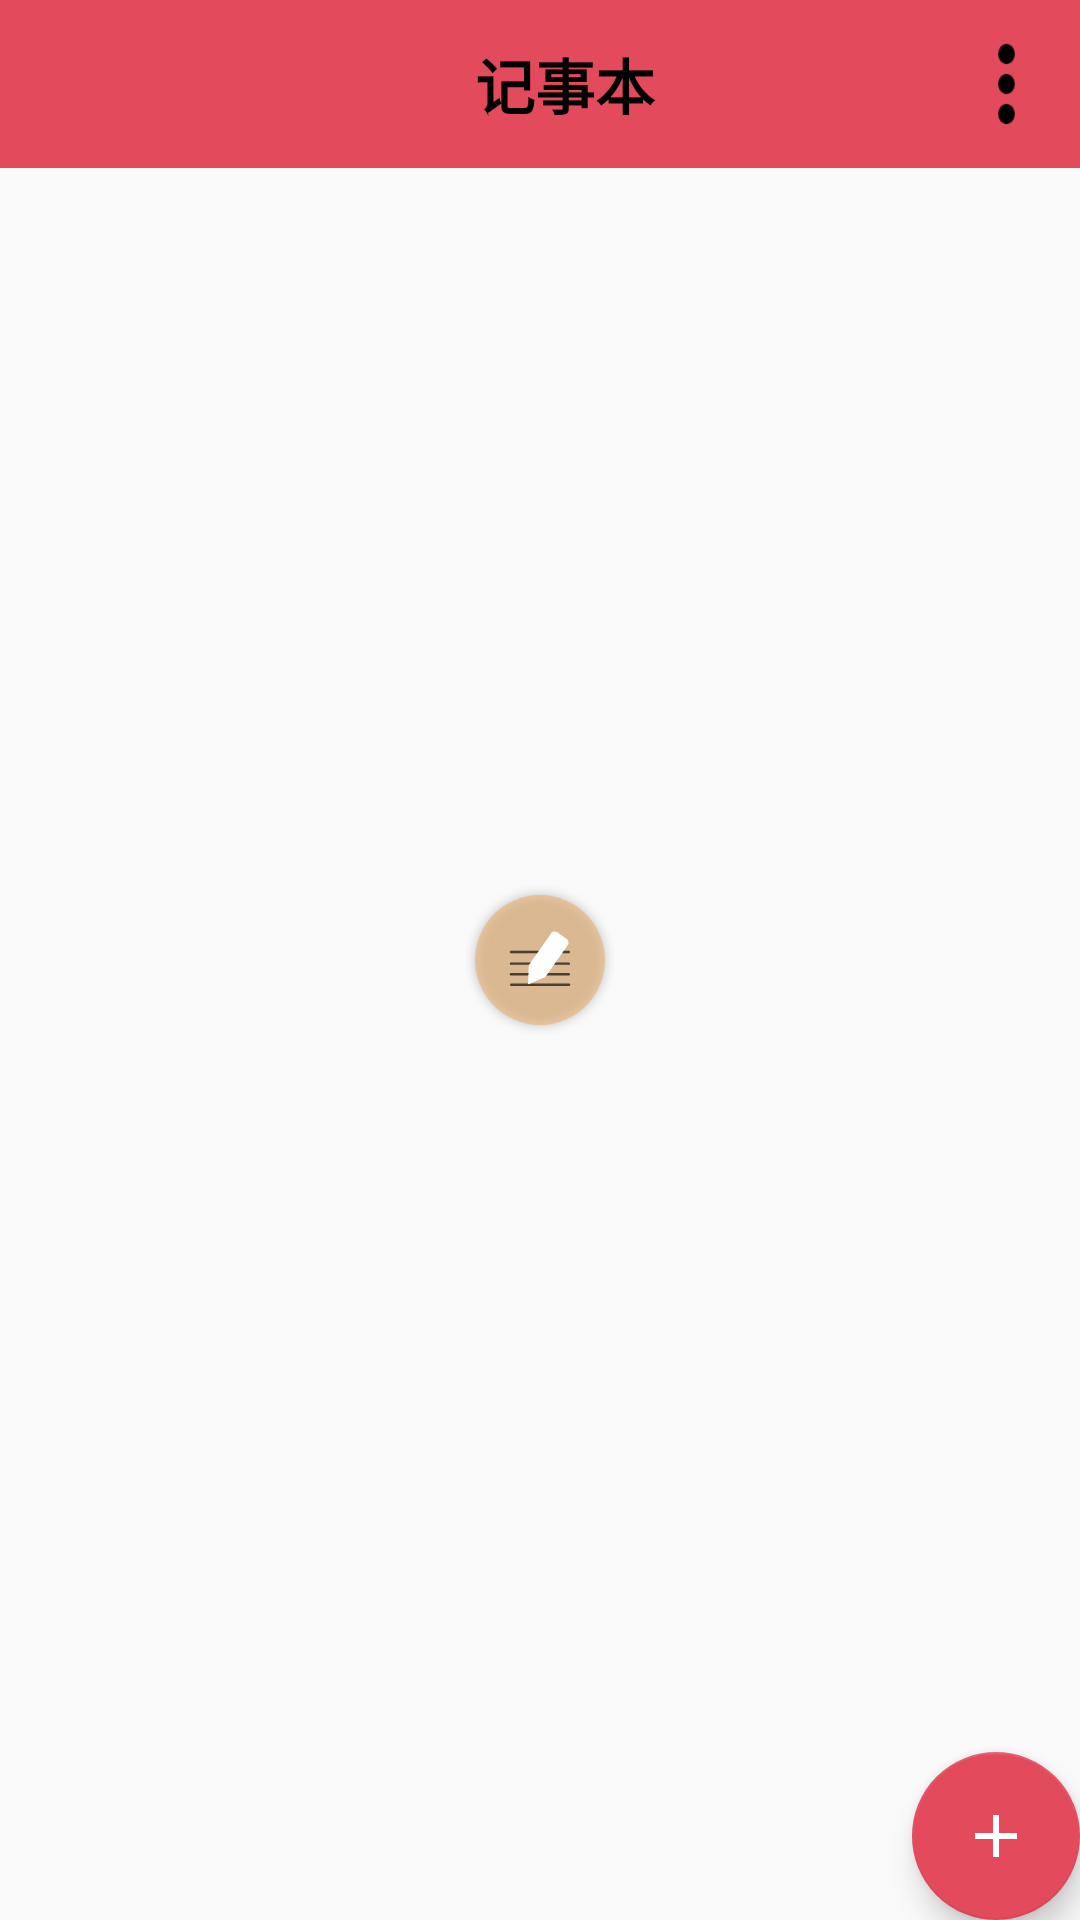

Icons on this 1080w x 1920h Android screen, each with the point to tap as [x,y]:
add: [996,1836]
menu: [1006,84]
